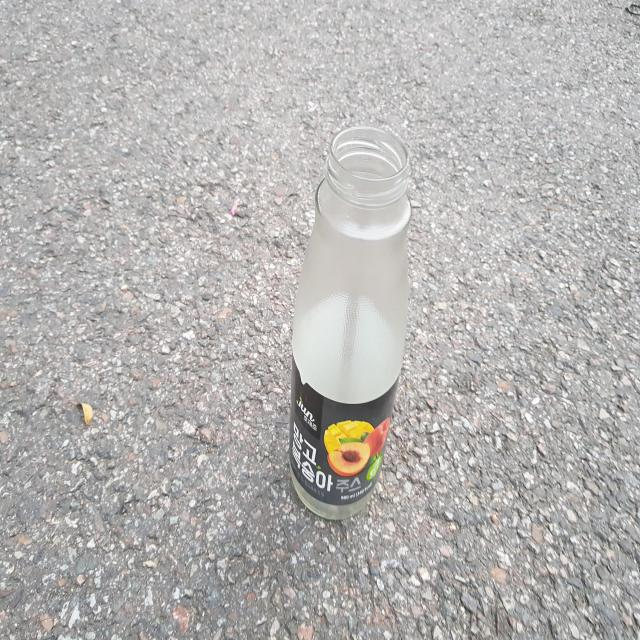glass: (289, 127, 411, 519)
